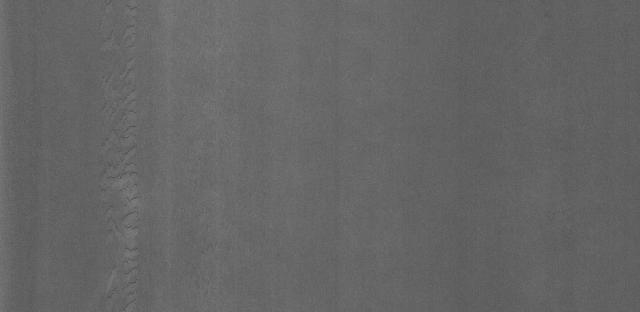silk_spot: (89, 18, 153, 297)
